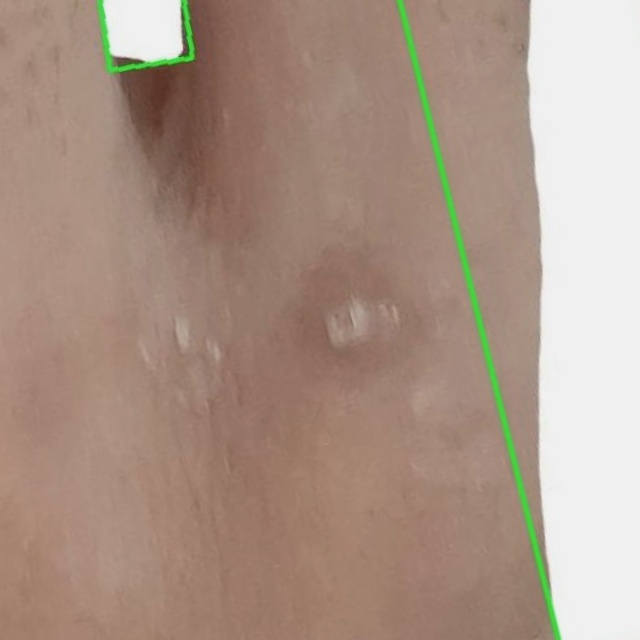Scabies: (99, 0, 192, 69)
